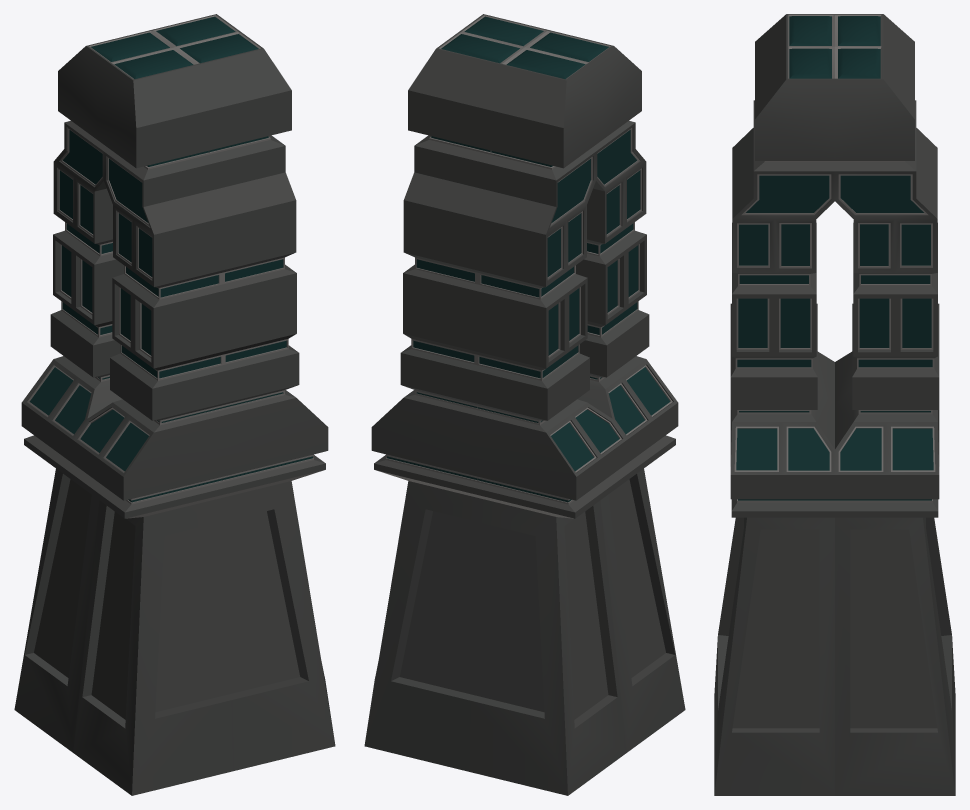
File: mAIN .fbx
3 views of the same model, side by side, from view 1: azimuth 30°, elevation 25°; view 2: azimuth 150°, elevation 25°; view 3: azimuth 270°, elevation 25° (orthographic). The views are drawn at different scales.
Parts seen in each view (by area): view 1: main; view 2: main; view 3: main.
Boxes of the visible parts, x1=… form: main: x1=14, y1=14, x2=335, y2=795; main: x1=364, y1=14, x2=685, y2=795; main: x1=714, y1=14, x2=955, y2=795.
Bounding box in the file's own units: 773 × 2465 × 769.
